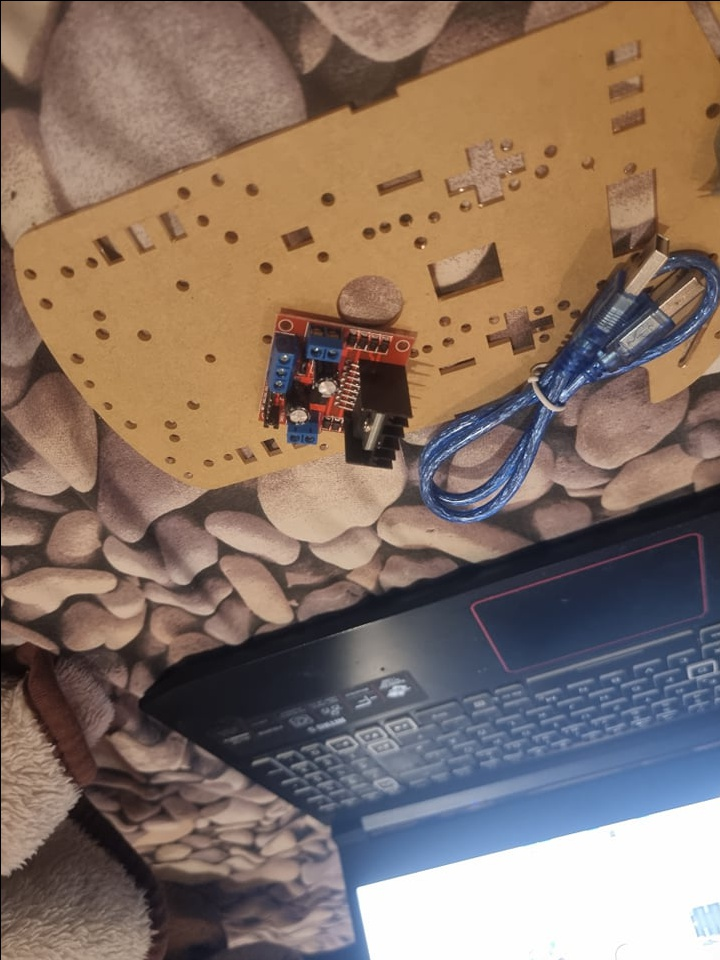MOTOR: (259, 314, 419, 471)
